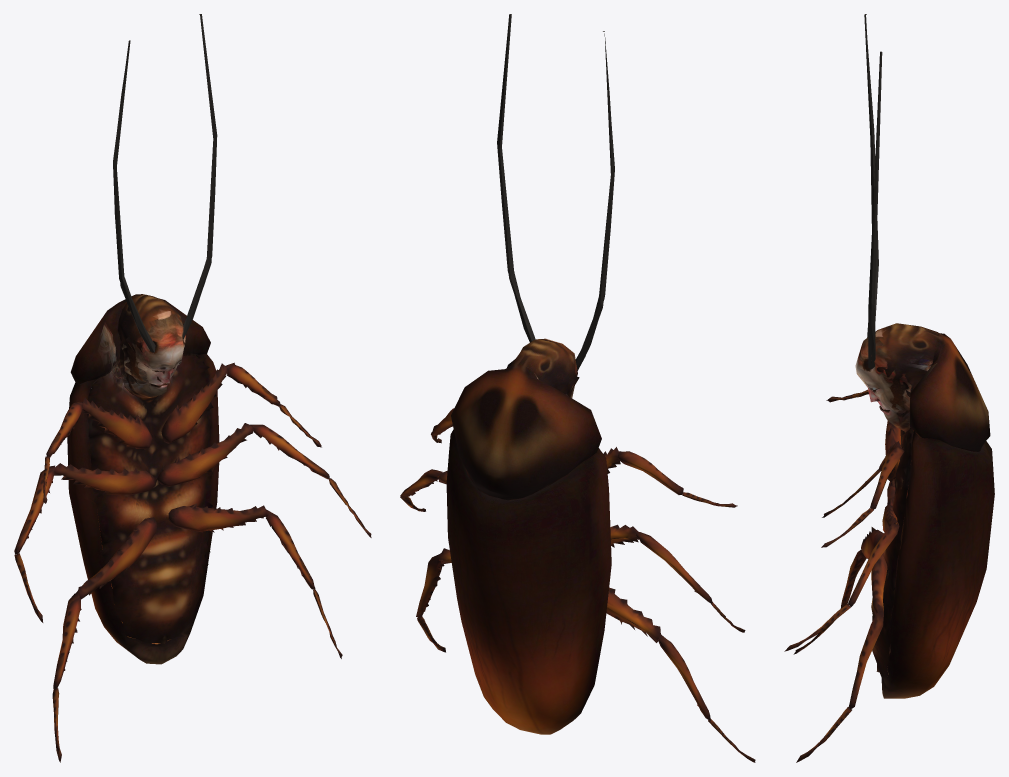
Rendered from gurl.glb.
3 renders of one model, left to right at view 1: azimuth 30°, elevation 25°; view 2: azimuth 150°, elevation 25°; view 3: azimuth 270°, elevation 25°, orthographic. The views are drawn at different scales.
Parts seen in each view (by area): view 1: mesh10.dat; view 2: mesh10.dat; view 3: mesh10.dat.
Boxes of the visible parts, bbox=[...] form: mesh10.dat: bbox=[14, 14, 371, 762]; mesh10.dat: bbox=[400, 14, 755, 762]; mesh10.dat: bbox=[784, 14, 994, 762].
Bounding box in the file's own units: 6.58 × 13.52 × 3.72.
Materials: 8 (8 with a texture image).
